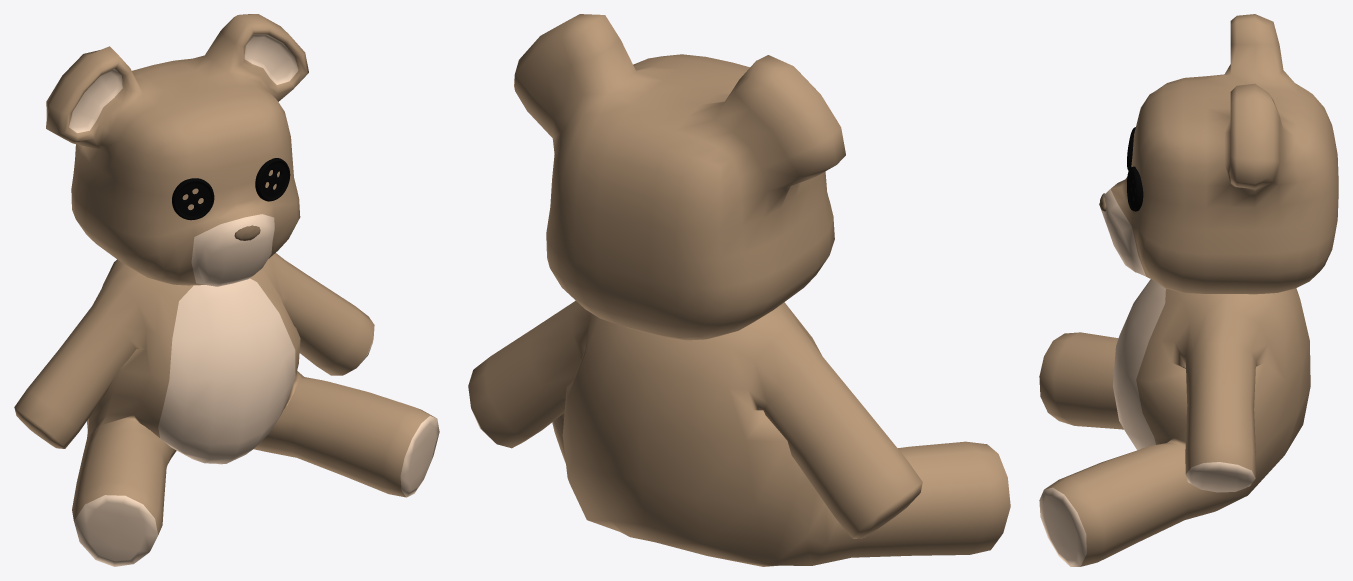
File: plushie.fbx
3 views of the same model, side by side, from view 1: azimuth 30°, elevation 25°; view 2: azimuth 150°, elevation 25°; view 3: azimuth 270°, elevation 25° (orthographic). The views are drawn at different scales.
Parts seen in each view (by area): view 1: teddybearShape; view 2: teddybearShape; view 3: teddybearShape.
Part boxes in pixels (bbox=[...]): teddybearShape: bbox=[14, 14, 439, 566]; teddybearShape: bbox=[468, 14, 1010, 566]; teddybearShape: bbox=[1039, 14, 1338, 566].
Size of the model in its own units: 163 by 185 by 114.
